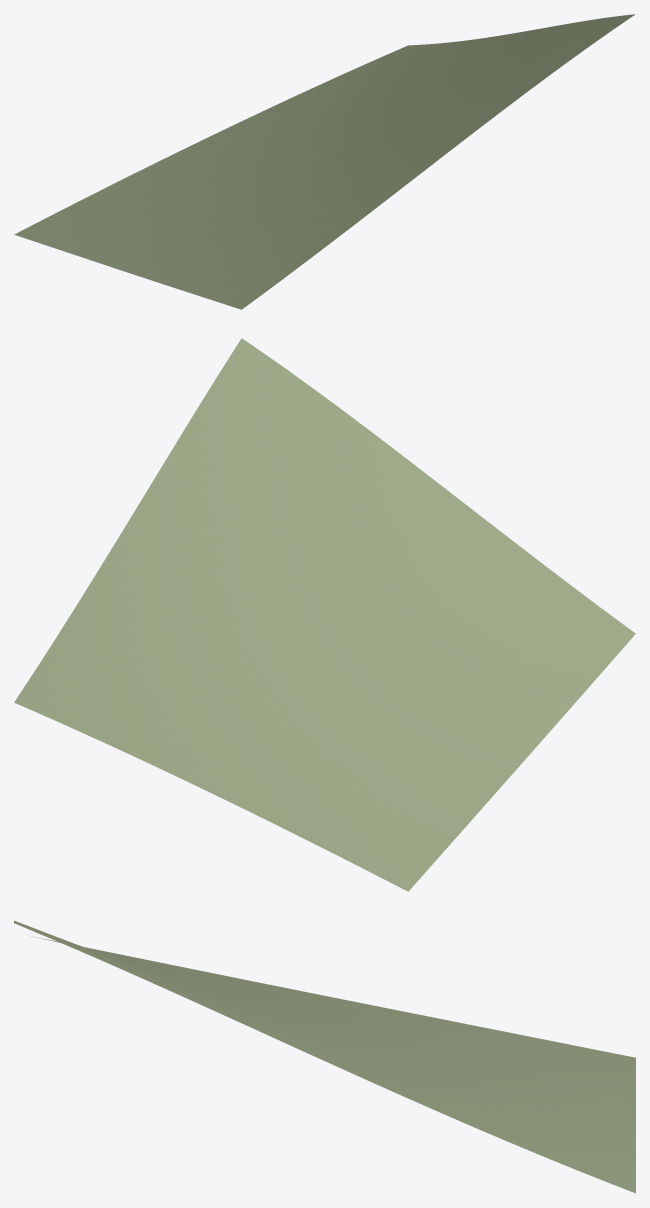
File: alpine-8-0.glb
The picture shows the model from 3 angles, top to bottom: view 1: azimuth 30°, elevation 25°; view 2: azimuth 150°, elevation 25°; view 3: azimuth 270°, elevation 25°; orthographic projection. The views are drawn at different scales.
Visible parts, largest first — view 1: alpine-8-0; view 2: alpine-8-0; view 3: alpine-8-0.
Part boxes in pixels (x1=…): alpine-8-0: x1=14, y1=14, x2=635, y2=309; alpine-8-0: x1=14, y1=338, x2=635, y2=891; alpine-8-0: x1=14, y1=920, x2=635, y2=1193.
Size of the model in its own units: 256 by 180 by 256.
